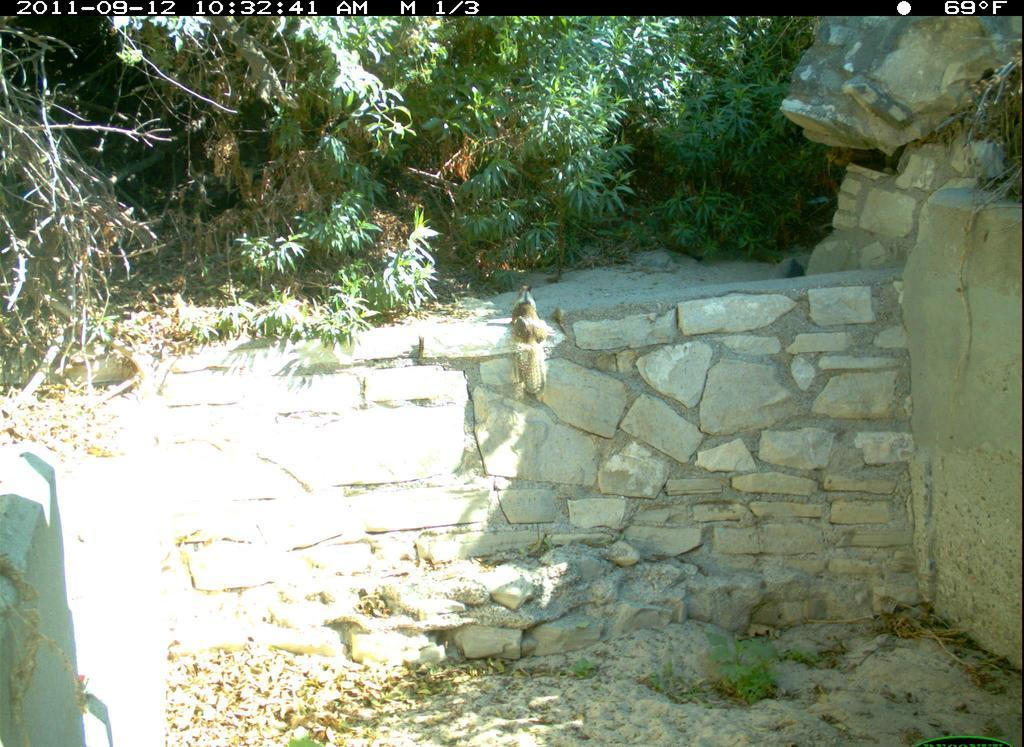squirrel: (498, 265, 570, 408)
